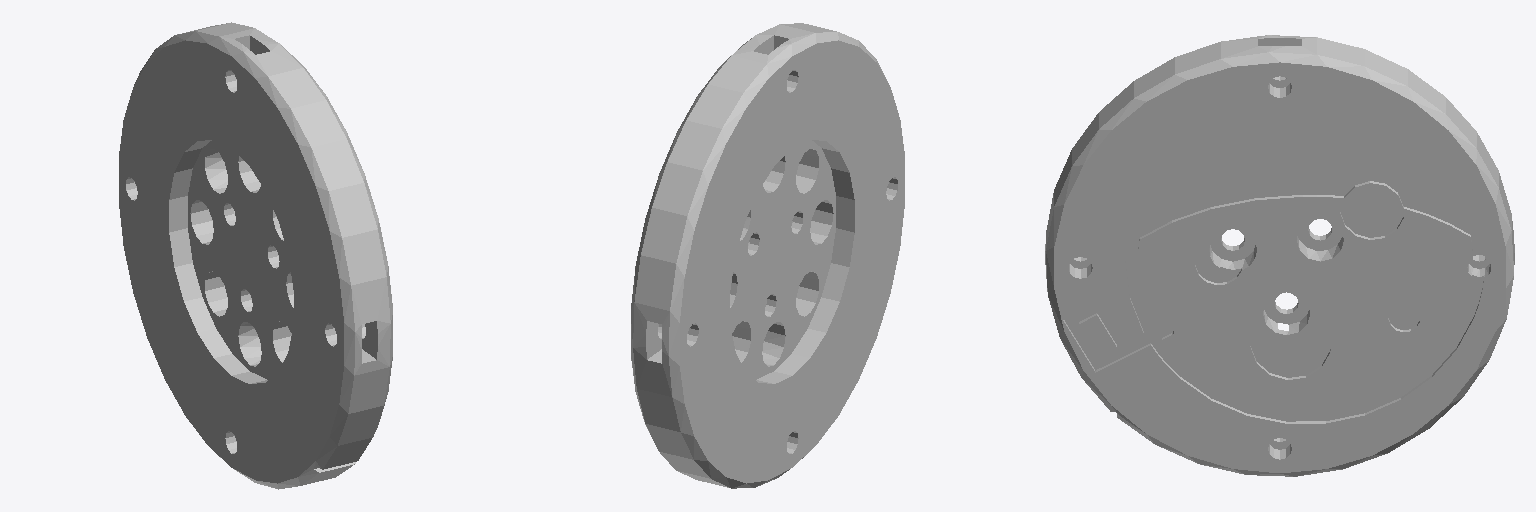
File: hand.obj
3 views of the same model, side by side, from view 1: azimuth 30°, elevation 25°; view 2: azimuth 150°, elevation 25°; view 3: azimuth 270°, elevation 25° (orthographic).
Visible parts, largest first — view 1: Hand; view 2: Hand; view 3: Hand.
Part boxes in pixels (left/top/right/bottom): Hand: left=119, top=22, right=392, bottom=489; Hand: left=631, top=23, right=904, bottom=488; Hand: left=1045, top=35, right=1514, bottom=476.
Size of the model in its own units: 0.725 by 6 by 6.